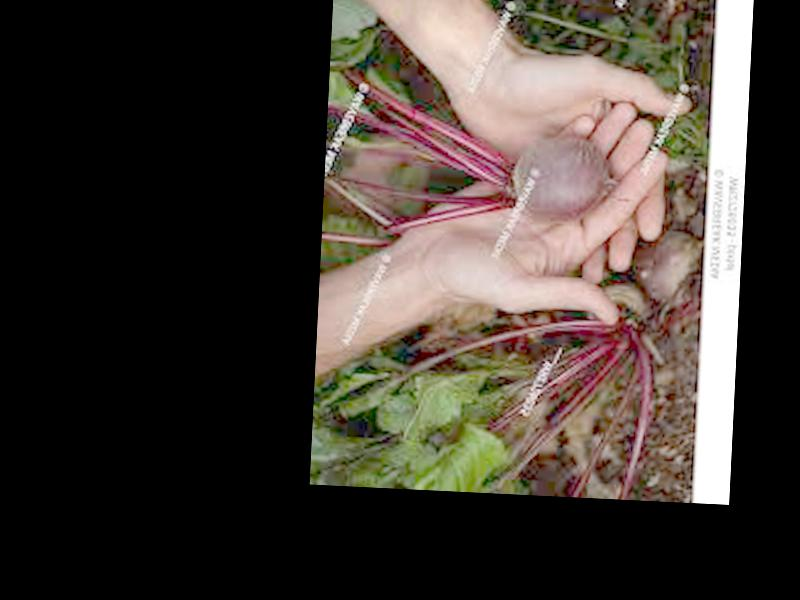Beet: (331, 64, 623, 245)
